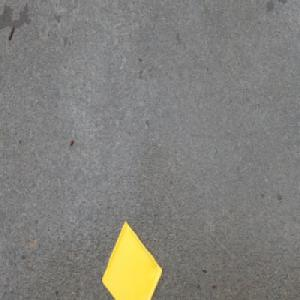PlasticPart: (100, 220, 163, 300)
